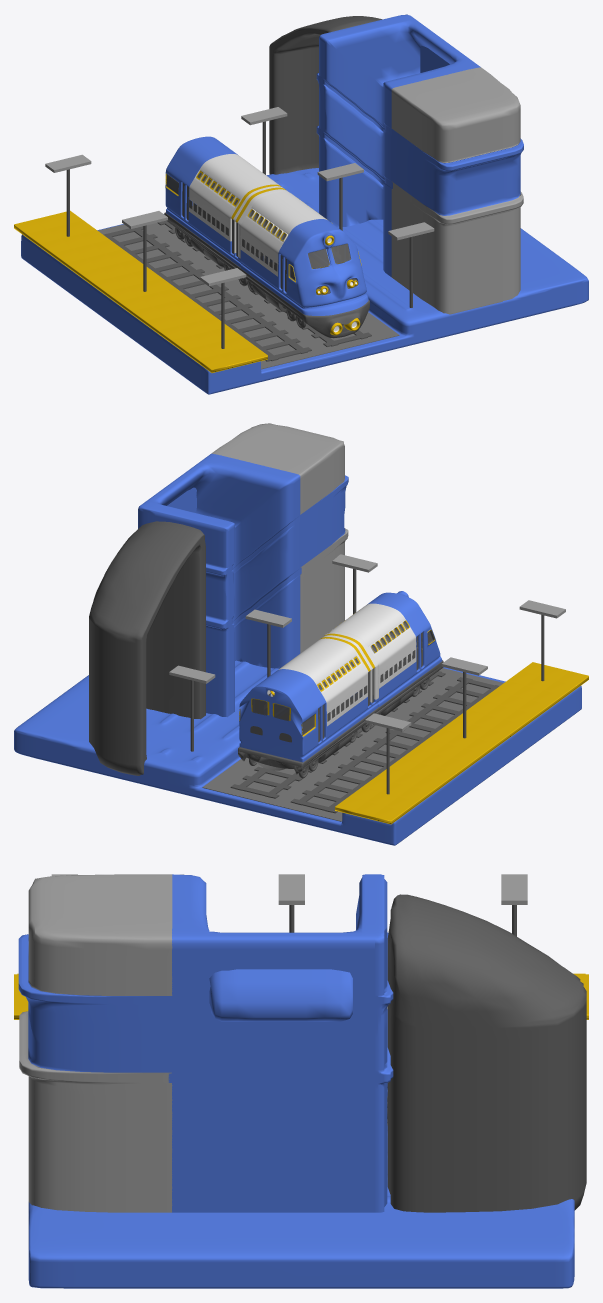
File: subway-metro-3d-animated-icon-1099560008548.glb
The picture shows the model from 3 angles, top to bottom: view 1: azimuth 30°, elevation 25°; view 2: azimuth 150°, elevation 25°; view 3: azimuth 270°, elevation 25°; orthographic projection. The views are drawn at different scales.
Parts seen in each view (by area): view 1: building.001, tire, building.002, building.003, building.004, building, rails, body bottom, body, glass, lamp, lamp.004 (+4 smaller); view 2: building.001, building.004, building.002, tire, building.003, building, rails, body bottom, body, glass, lamp.010, lamp.004 (+4 smaller); view 3: building.001, building.004, building.002, lamp.002, lamp.004, building.003.
Part boxes in pixels (x1,y1,x2,y2): building.001: (316,14,523,314); tire: (165,136,369,338); building.002: (21,168,588,394); building.003: (14,210,267,372); building.004: (269,16,382,174); building: (98,223,399,369); rails: (103,220,371,361); body bottom: (164,200,360,335); body: (167,172,349,281); glass: (182,182,286,292); lamp: (388,222,434,307); lamp.004: (45,154,91,236); building.001: (138,423,348,717); building.004: (89,521,205,775); building.002: (14,660,581,845); tire: (239,591,443,778); building.003: (335,662,588,824); building: (202,668,503,821); rails: (230,671,499,813); body bottom: (238,658,442,774); body: (239,621,433,735); glass: (268,634,422,742); lamp.010: (169,665,215,751); lamp.004: (365,713,411,794); building.001: (18,874,393,1212); building.004: (387,894,586,1212); building.002: (28,1125,574,1288); lamp.002: (278,874,304,932); lamp.004: (501,874,527,936); building.003: (14,973,588,1019).
Size of the model in its own units: 2.19 by 1.16 by 1.95.
